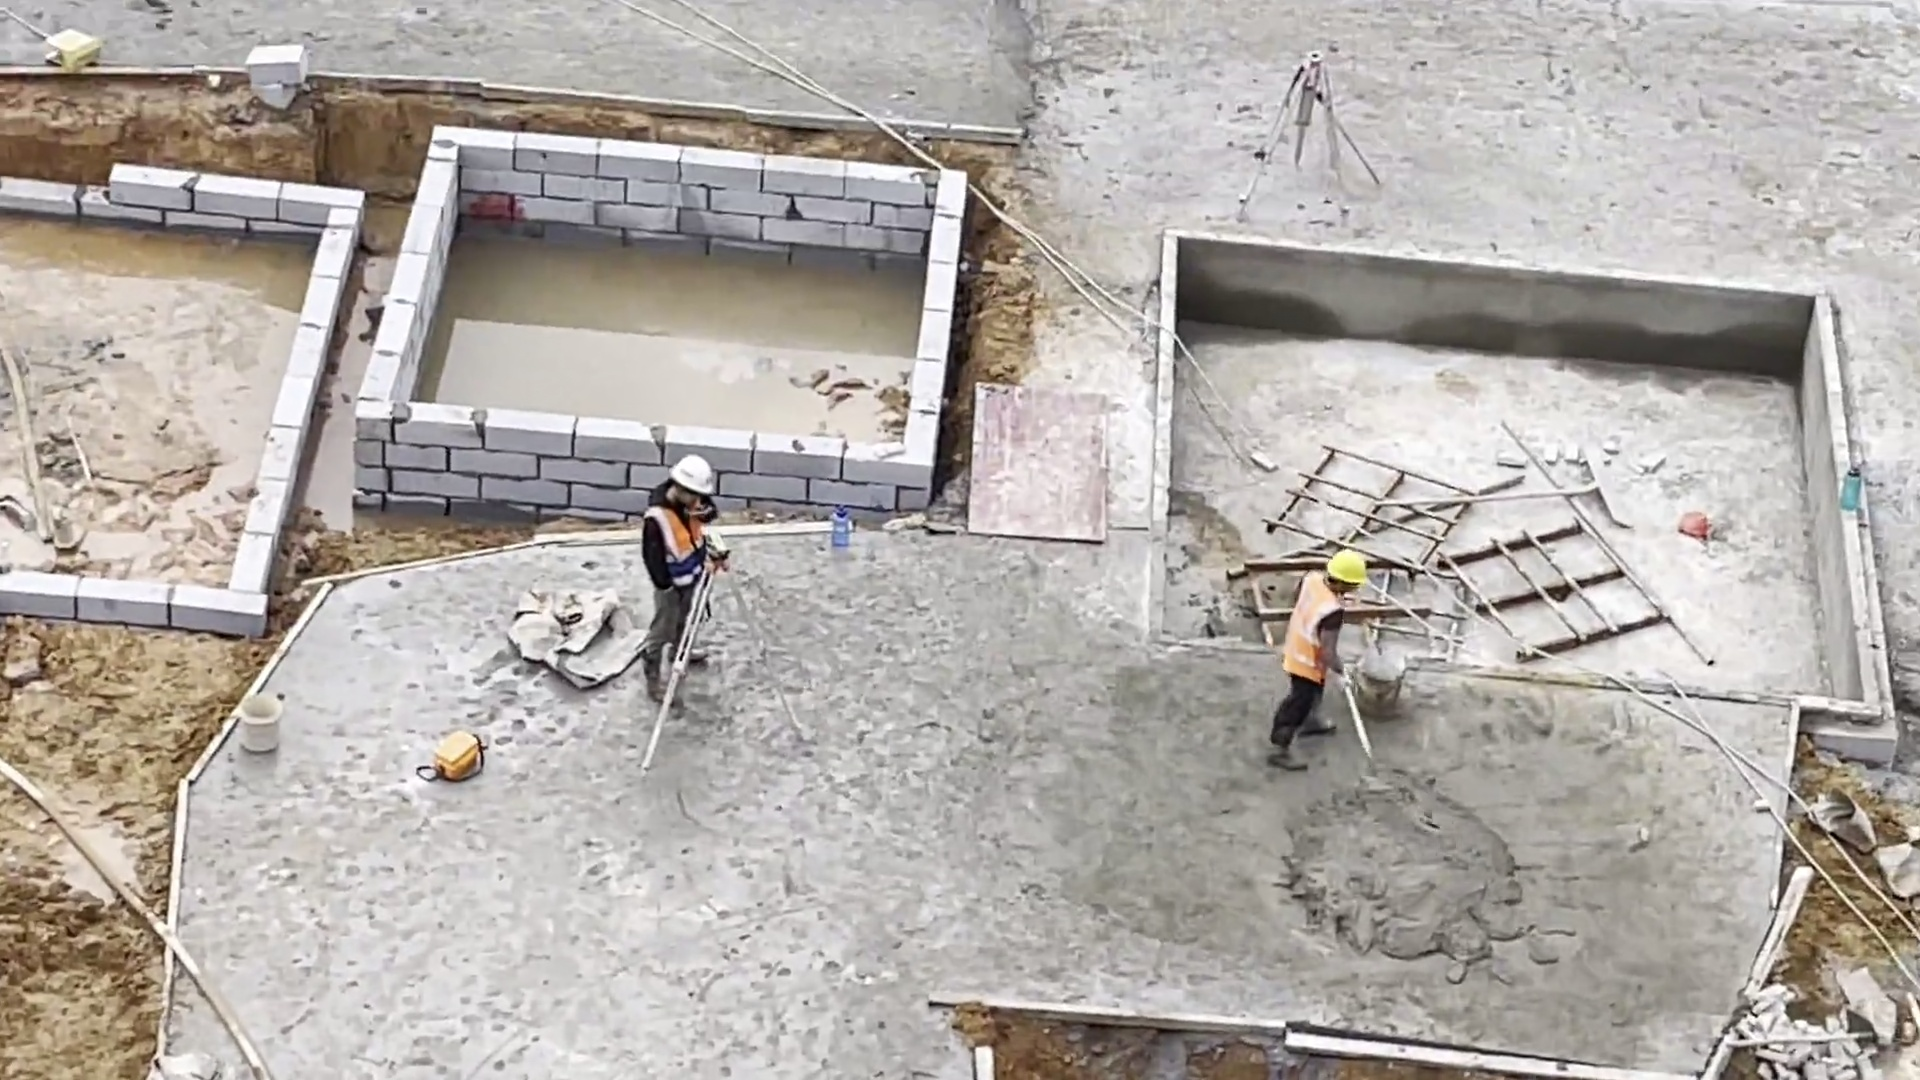brick: (444, 135, 924, 259), (413, 401, 904, 510), (236, 195, 353, 596), (356, 139, 448, 497), (905, 171, 961, 494), (3, 174, 346, 226), (5, 568, 262, 628)
helmet: (667, 456, 716, 500), (1323, 553, 1367, 586)
person: (1267, 545, 1367, 771), (643, 449, 717, 708)
vest: (1286, 576, 1336, 680), (650, 507, 706, 574)
